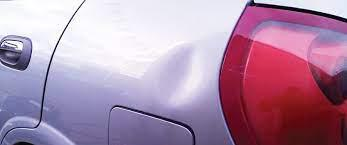quaterpanel-dent: (60, 0, 217, 144)
